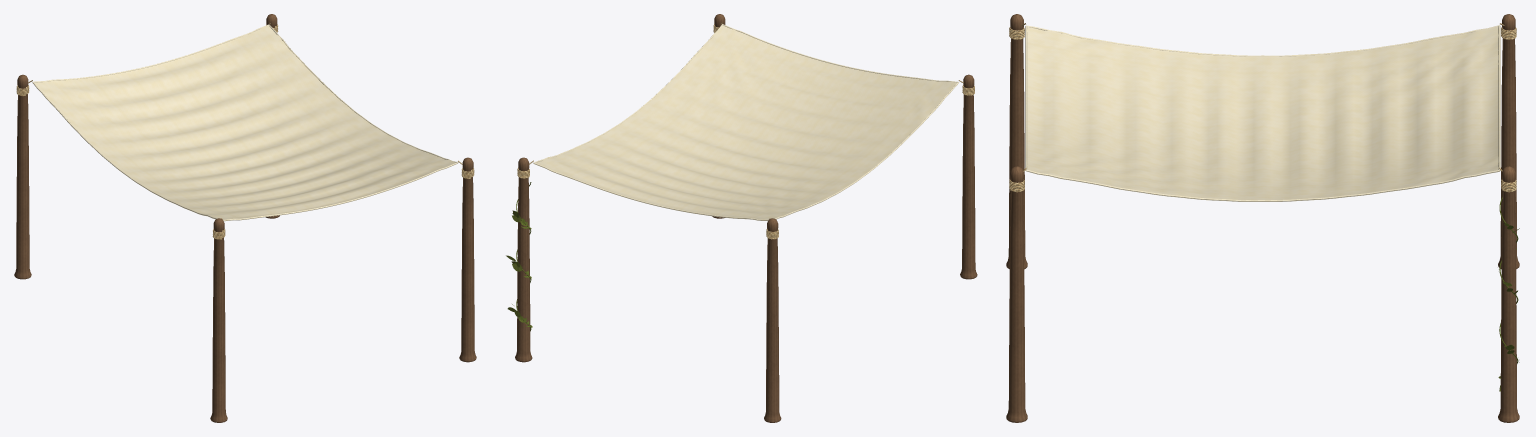
Rendered from canopy.glb.
The picture shows the model from 3 angles, left to right: view 1: azimuth 30°, elevation 25°; view 2: azimuth 150°, elevation 25°; view 3: azimuth 270°, elevation 25°; orthographic projection. The views are drawn at different scales.
Parts seen in each view (by area): view 1: Mesh_LinenCanopy, Mesh_CanopyMast_3, Mesh_CanopyMast_1, Mesh_CanopyMast_2, Mesh_LinenCanopyHem; view 2: Mesh_LinenCanopy, Mesh_CanopyMast_3, Mesh_CanopyMast_2, Mesh_CanopyMast_0, Mesh_LinenCanopyHem; view 3: Mesh_LinenCanopy, Mesh_CanopyMast_1, Mesh_CanopyMast_0, Mesh_LinenCanopyHem, Mesh_CanopyMast_3, Mesh_CanopyMast_2.
Part boxes in pixels (bbox=[...]): Mesh_LinenCanopy: bbox=[34, 25, 455, 219]; Mesh_CanopyMast_3: bbox=[210, 218, 227, 422]; Mesh_CanopyMast_1: bbox=[459, 157, 476, 362]; Mesh_CanopyMast_2: bbox=[14, 74, 31, 279]; Mesh_LinenCanopyHem: bbox=[32, 24, 458, 221]; Mesh_LinenCanopy: bbox=[536, 25, 957, 219]; Mesh_CanopyMast_3: bbox=[960, 74, 977, 279]; Mesh_CanopyMast_2: bbox=[764, 218, 781, 422]; Mesh_CanopyMast_0: bbox=[515, 157, 532, 362]; Mesh_LinenCanopyHem: bbox=[533, 24, 958, 221]; Mesh_LinenCanopy: bbox=[1027, 26, 1499, 199]; Mesh_CanopyMast_1: bbox=[1006, 166, 1027, 422]; Mesh_CanopyMast_0: bbox=[1498, 166, 1519, 422]; Mesh_LinenCanopyHem: bbox=[1025, 25, 1500, 201]; Mesh_CanopyMast_3: bbox=[1006, 14, 1027, 269]; Mesh_CanopyMast_2: bbox=[1498, 14, 1519, 269].
Size of the model in its own units: 4.66 by 3.28 by 6.08.
4 materials, 4 textured.
